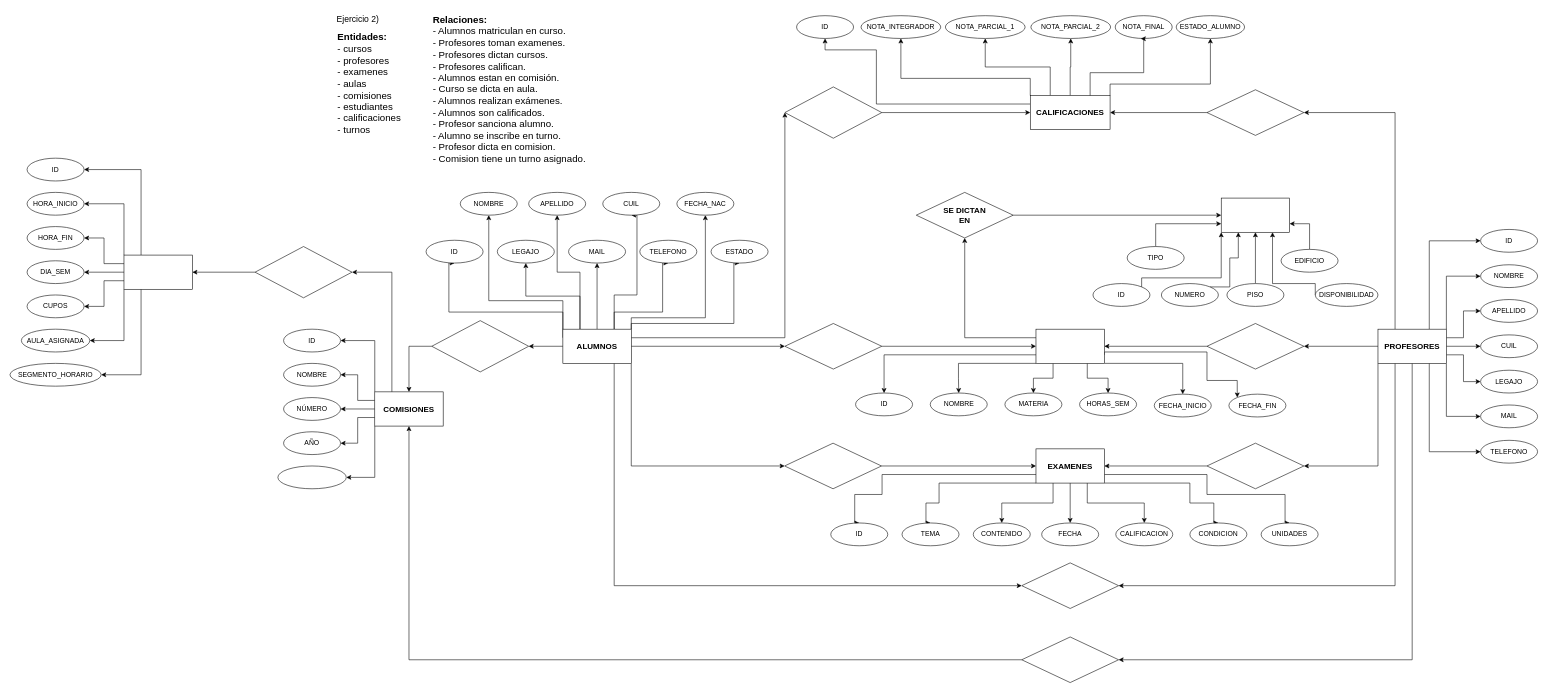
Some shapes in this 1548 by 693 pixel diagram are drawn without their labels. Each missing label, with the box of its shape:
AULAS: (1221, 198, 1290, 232)
CURSOS: (1035, 329, 1104, 363)
DICTA EN: (1021, 636, 1119, 683)
DICTAN: (1206, 323, 1304, 369)
ESTABLECEN: (1206, 89, 1304, 135)
MATRICULACION: (277, 465, 346, 489)
OBTIENEN: (784, 86, 882, 138)
REALIZAN: (784, 443, 882, 489)
SANCIONAN: (1021, 562, 1119, 608)
SE INSCRIBEN: (431, 320, 529, 372)
SE MATRICULAN: (784, 323, 882, 369)
TIENEN ASIGNADA: (255, 246, 352, 298)
TOMAN: (1206, 443, 1304, 489)
TURNOS: (123, 255, 192, 289)
